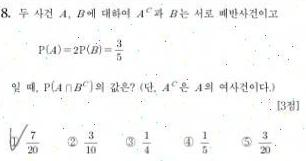choice: (6, 132, 21, 151)
not-choice: (66, 135, 79, 148), (123, 135, 136, 148), (240, 134, 252, 148), (182, 136, 195, 148)
